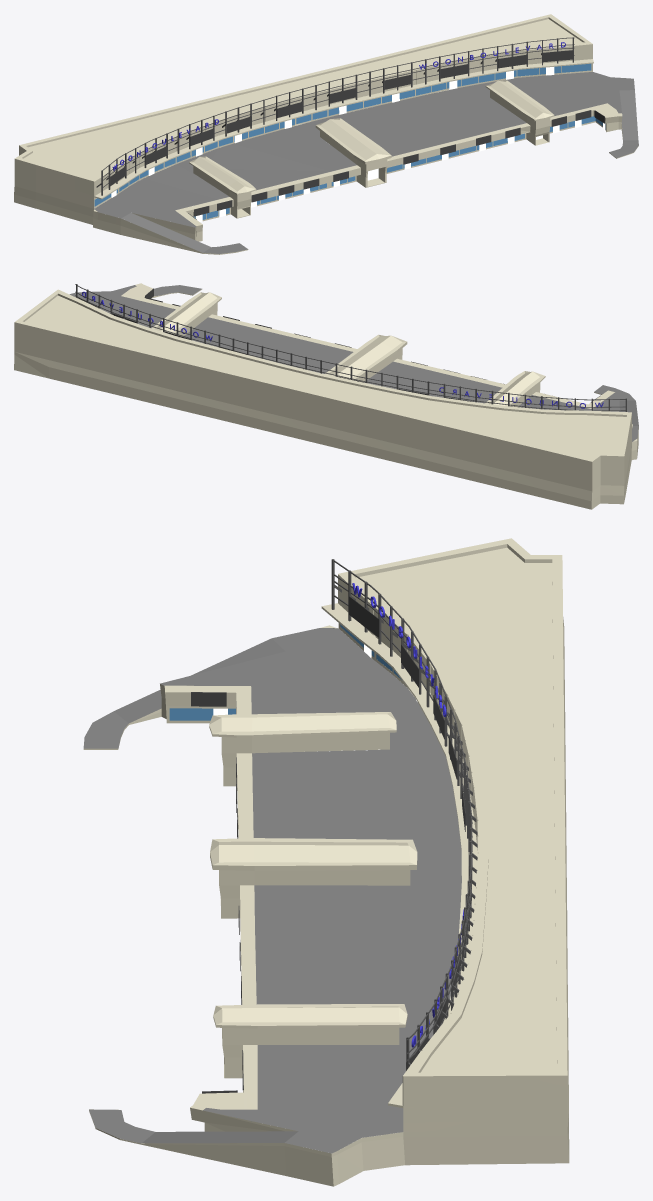
The model's file is wbbuilding1_V4_draco.glb.
The picture shows the model from 3 angles, top to bottom: view 1: azimuth 30°, elevation 25°; view 2: azimuth 150°, elevation 25°; view 3: azimuth 270°, elevation 25°; orthographic projection. The views are drawn at different scales.
Parts seen in each view (by area): view 1: Object; view 2: Object; view 3: Object.
Part boxes in pixels (box(x1,y1,x2,y2)): Object: box(14, 14, 638, 254); Object: box(14, 283, 638, 509); Object: box(83, 538, 569, 1186).
Size of the model in its own units: 285 by 25.91 by 104.
